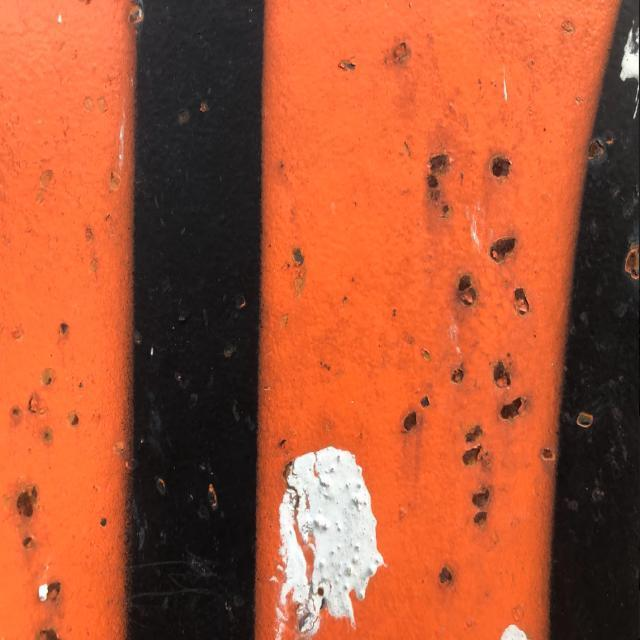Corrosion: (428, 155, 452, 216), (460, 423, 490, 469), (488, 235, 520, 266), (14, 486, 40, 523), (469, 484, 491, 526), (500, 392, 526, 424), (295, 610, 324, 638), (458, 274, 478, 309), (490, 153, 514, 182), (624, 239, 640, 282), (490, 358, 511, 387), (515, 286, 532, 317), (586, 136, 606, 161), (33, 624, 61, 640), (437, 562, 454, 588), (403, 408, 419, 433), (45, 579, 66, 598), (28, 391, 39, 414), (450, 367, 464, 385), (536, 448, 553, 461), (41, 373, 54, 386), (295, 249, 304, 267), (22, 536, 33, 548), (59, 322, 70, 334), (71, 413, 80, 426), (12, 408, 19, 416), (44, 431, 50, 440)
